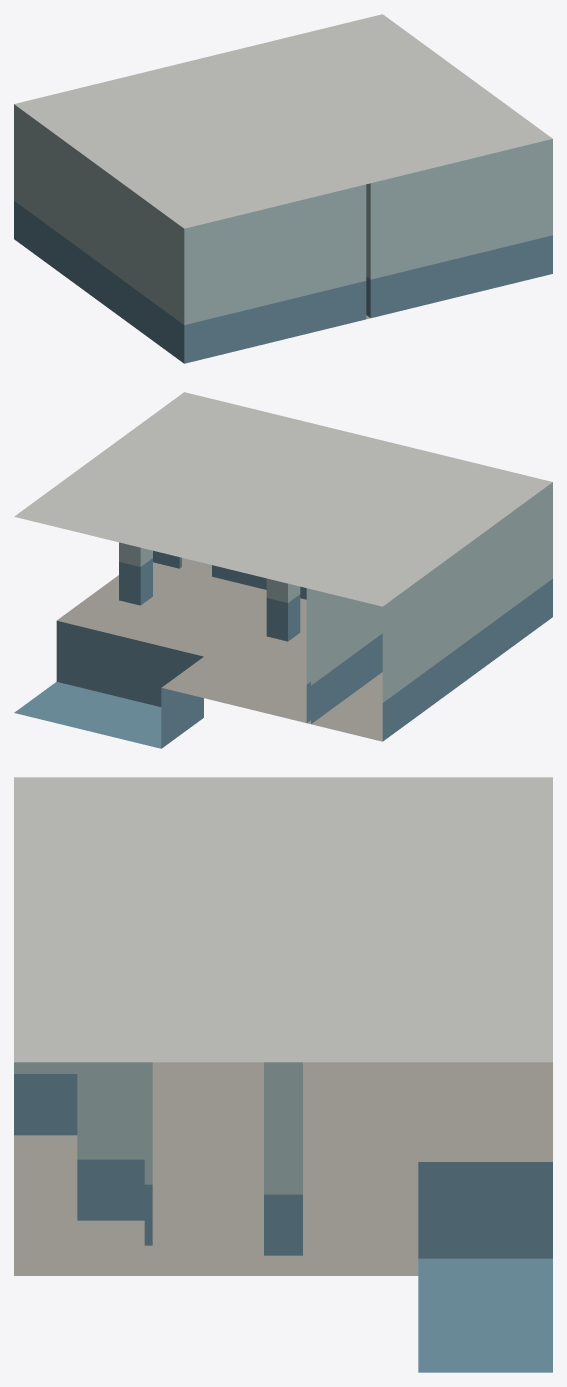
File: chunk_0_4.glb
3 views of the same model, one above another, from view 1: azimuth 30°, elevation 25°; view 2: azimuth 150°, elevation 25°; view 3: azimuth 270°, elevation 25° (orthographic). The views are drawn at different scales.
Visible parts, largest first — view 1: chunk_0_4; view 2: chunk_0_4; view 3: chunk_0_4.
Boxes of the visible parts, x1,y1,x2,y2 form: chunk_0_4: [14, 14, 552, 363]; chunk_0_4: [14, 392, 552, 748]; chunk_0_4: [14, 777, 552, 1372].
Size of the model in its own units: 12 by 6.1 by 9.6.
